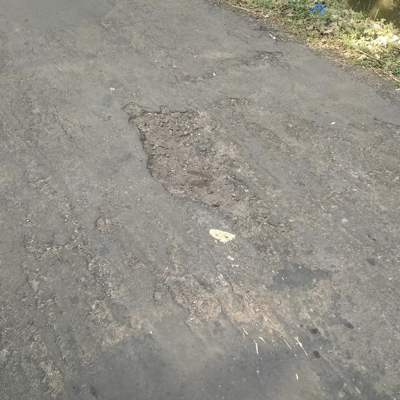pothole: (123, 102, 262, 220), (252, 48, 286, 68)
